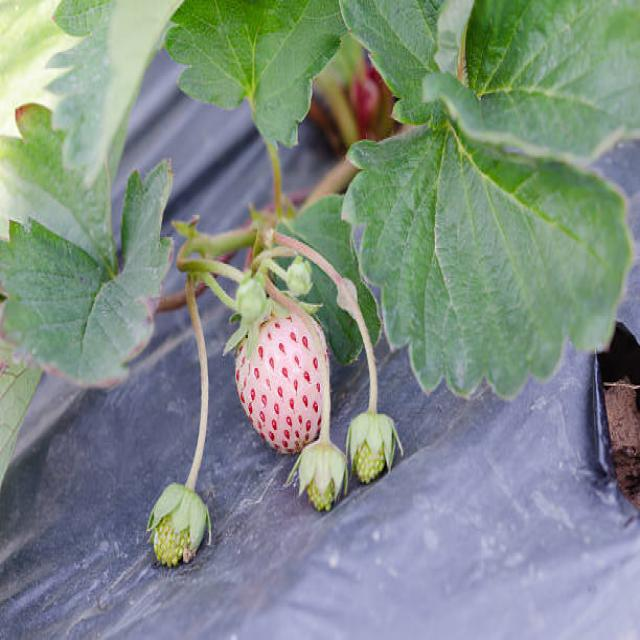Healthy Fruit: (234, 314, 327, 445)
